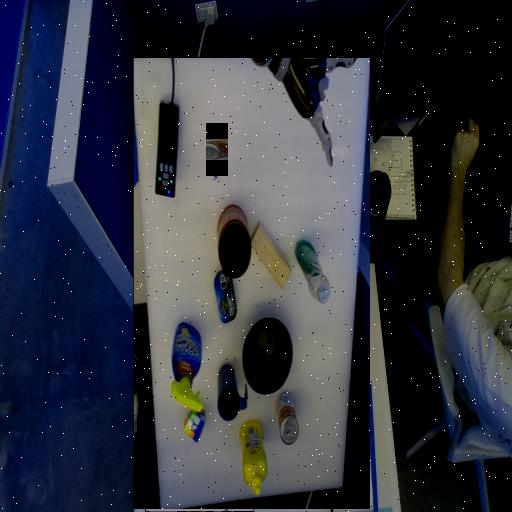bowl: (213, 175, 261, 249)
cleanser: (174, 264, 209, 326)
coffee_can: (253, 310, 286, 342)
jaco: (146, 402, 253, 511)
meat_can: (267, 244, 289, 296)
mug: (258, 148, 286, 202)
mustard_bottle: (238, 73, 263, 146)
rubik: (299, 125, 320, 159)
soup_can: (206, 139, 227, 159)
windex: (302, 185, 333, 215)
wooden_block: (213, 279, 253, 345)
workspace: (134, 58, 370, 509)
